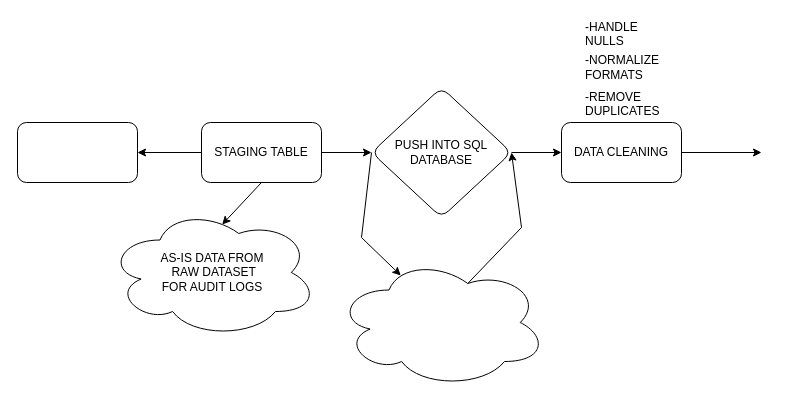
The diagram is 787 pixels wide and 405 high, and some of its shapes have lost their labels. The shapes that lost their labels are listed below. From the top down, each one's box as (x1, y1, x2, y2) in pixels, then its label:
(16, 122, 138, 182): RAW DATASET
(336, 256, 546, 388): USE T-SQL TO PUSH DATA INTO THE DATABASE
